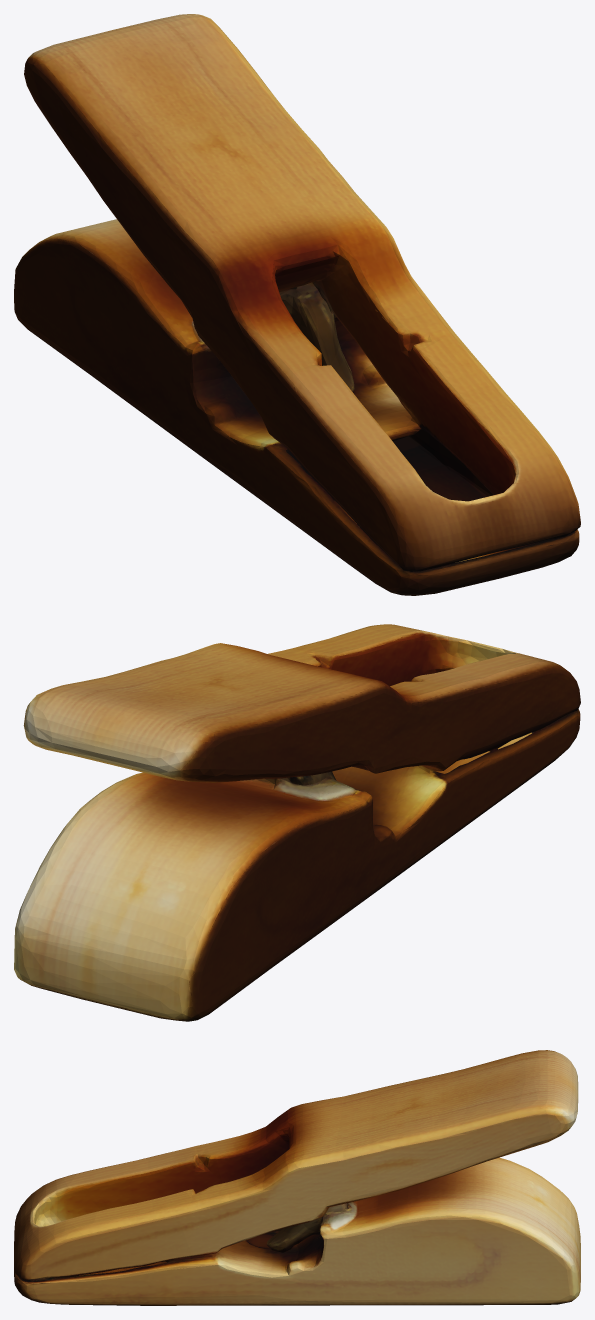
File: wooden-clothes-peg-rustic.jpeg.glb
3 views of the same model, one above another, from view 1: azimuth 30°, elevation 25°; view 2: azimuth 150°, elevation 25°; view 3: azimuth 270°, elevation 25° (orthographic). The views are drawn at different scales.
Parts seen in each view (by area): view 1: world; view 2: world; view 3: world.
Part boxes in pixels (x1,y1,x2,y2): world: [14, 14, 580, 595]; world: [14, 624, 580, 1021]; world: [14, 1050, 580, 1305].
Bounding box in the file's own units: 0.2693 × 0.3921 × 1.
Materials: 1 (1 with a texture image).
